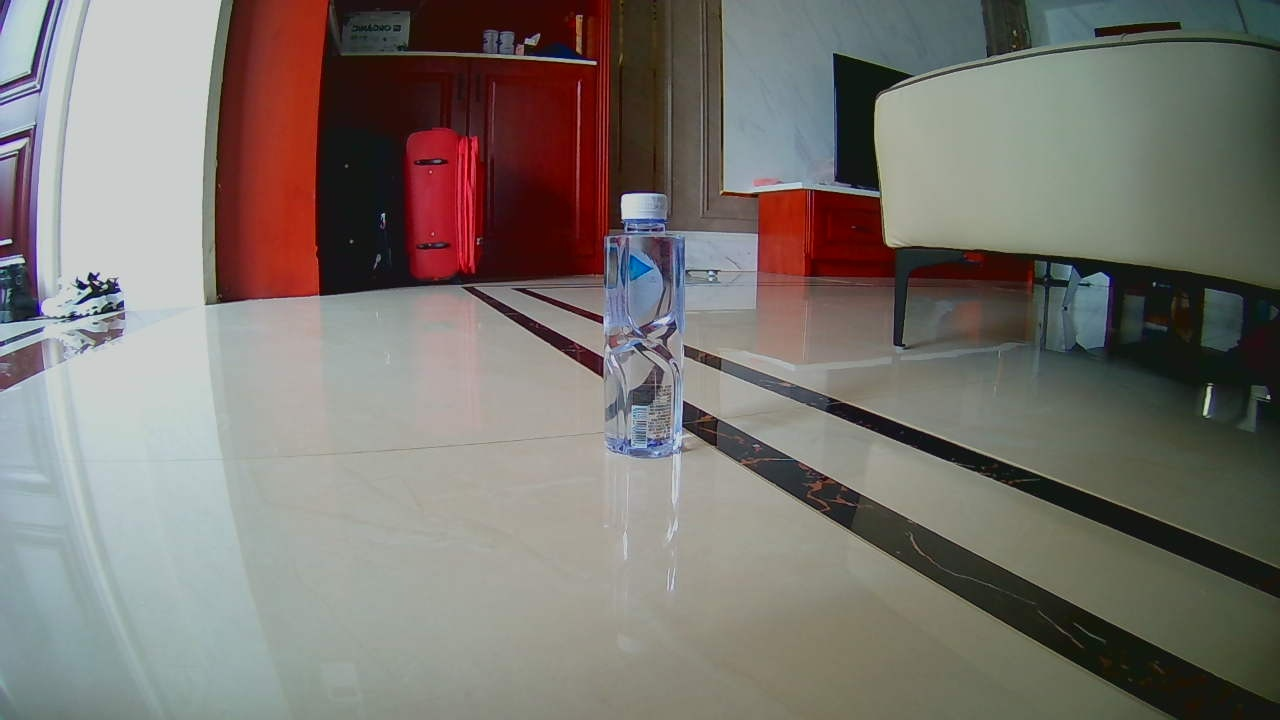water: (600, 192, 684, 461)
